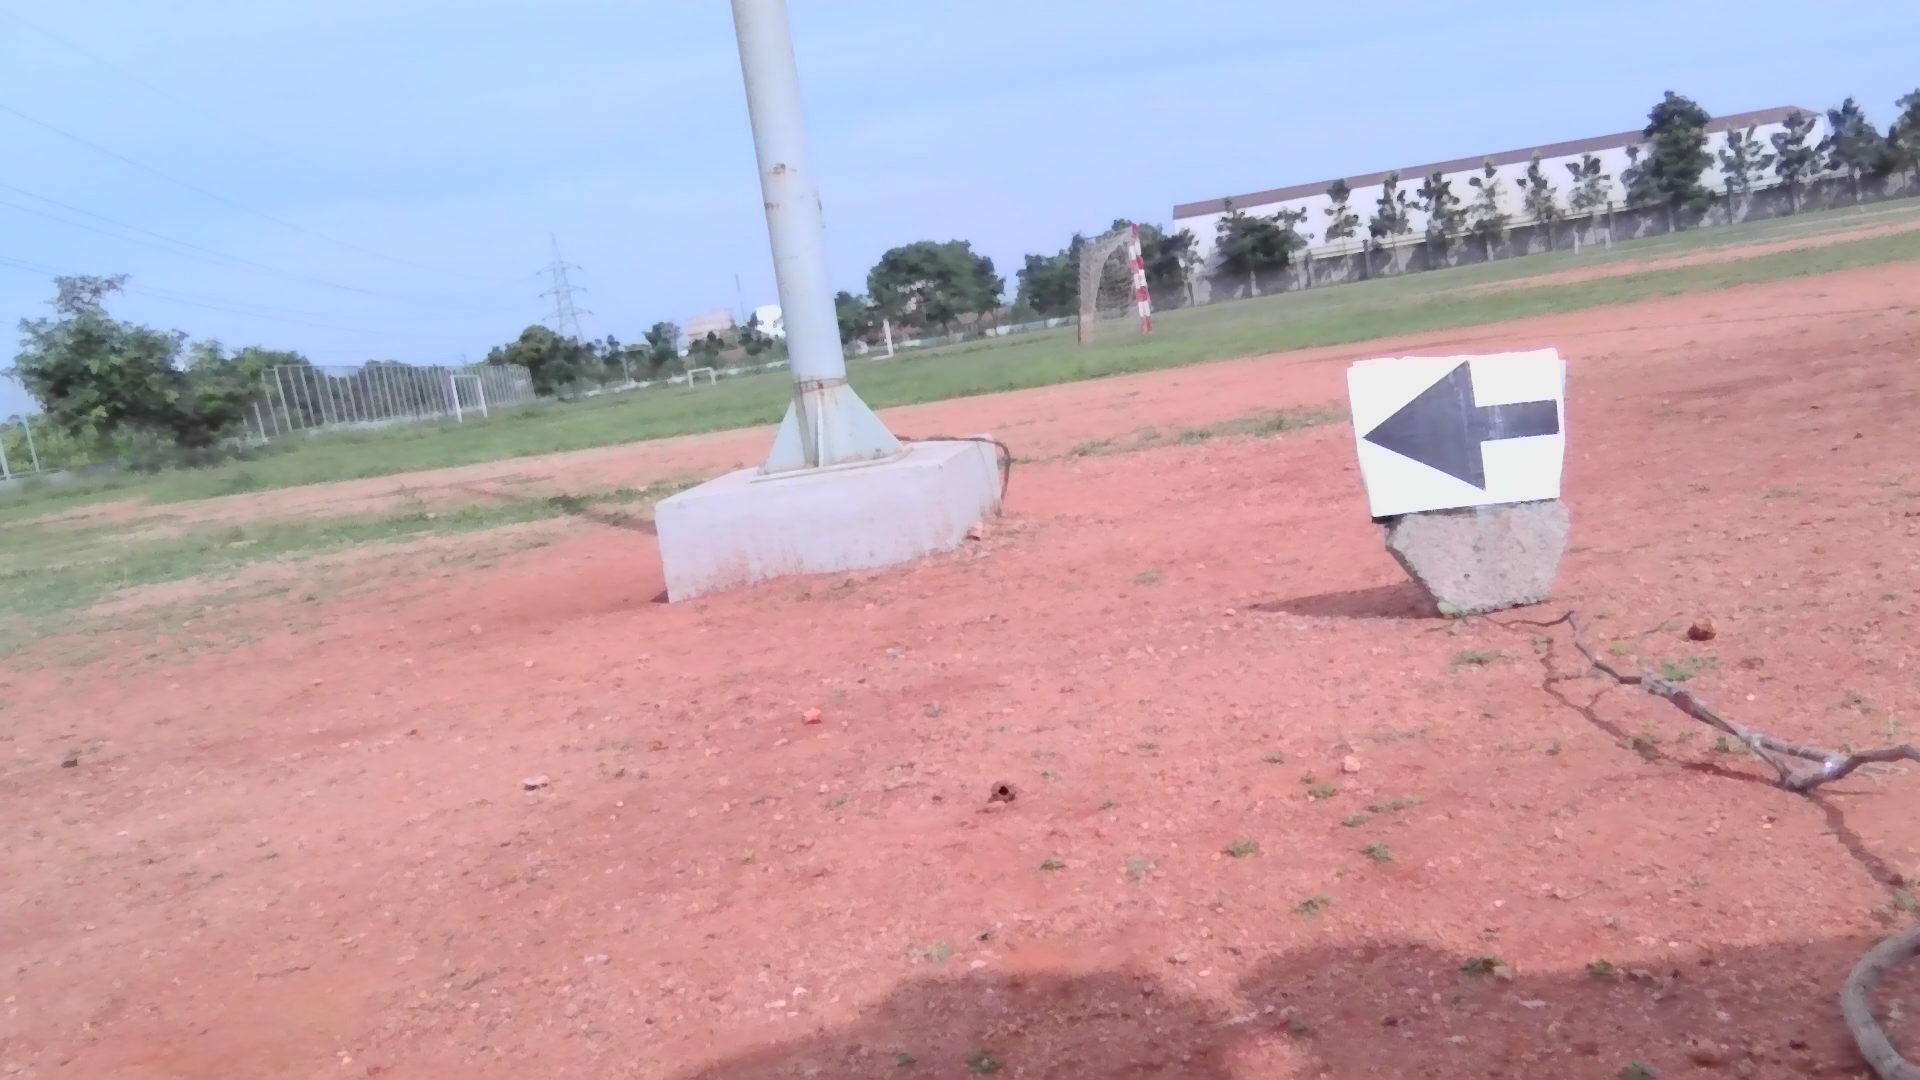leftDir: (1342, 357, 1577, 512)
